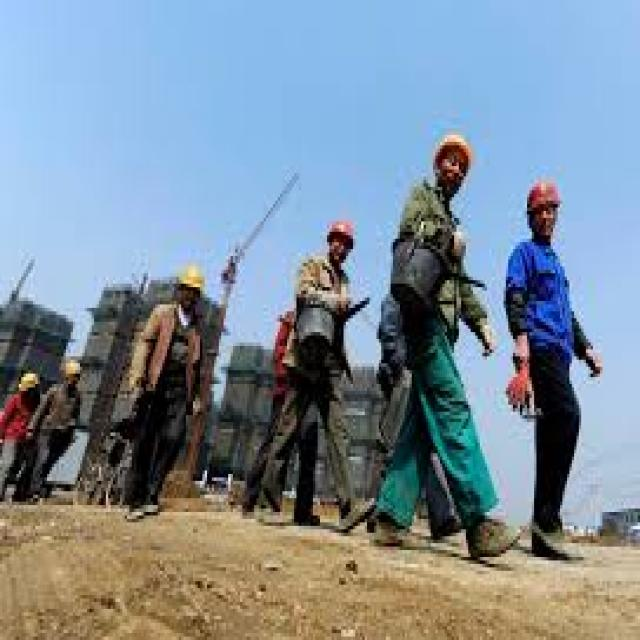Safety-Helmet: (423, 121, 482, 183), (515, 166, 572, 228), (318, 204, 362, 260), (167, 252, 212, 304), (59, 353, 87, 387), (16, 367, 42, 398)
